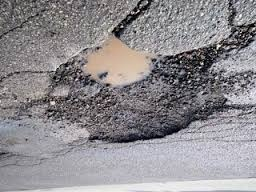pothole: (42, 34, 228, 149)
